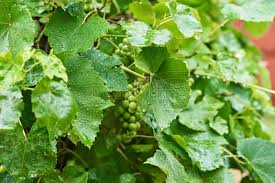grapes: (119, 86, 146, 141)
